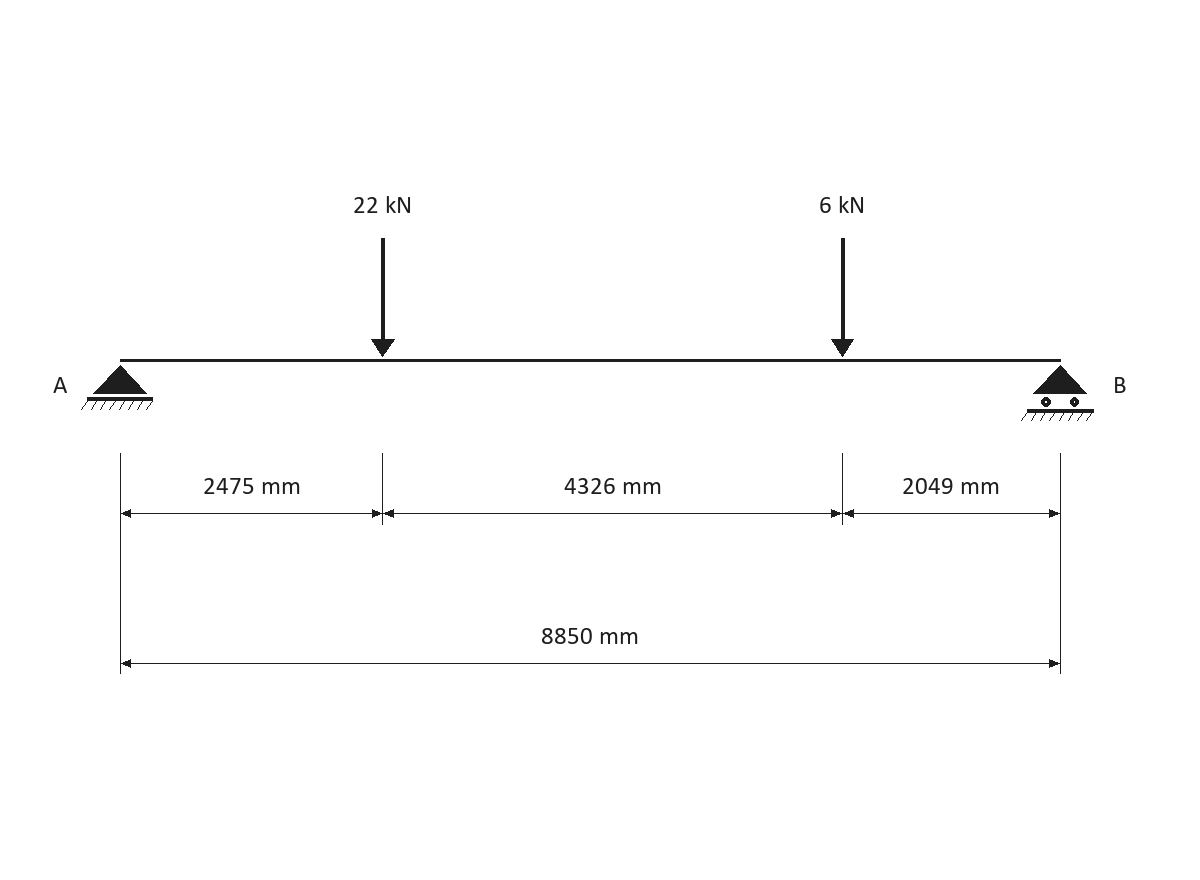pin_support: (81, 365, 153, 410)
point_load: (371, 238, 395, 357), (831, 238, 854, 357)
roller_support: (1021, 365, 1094, 421)
